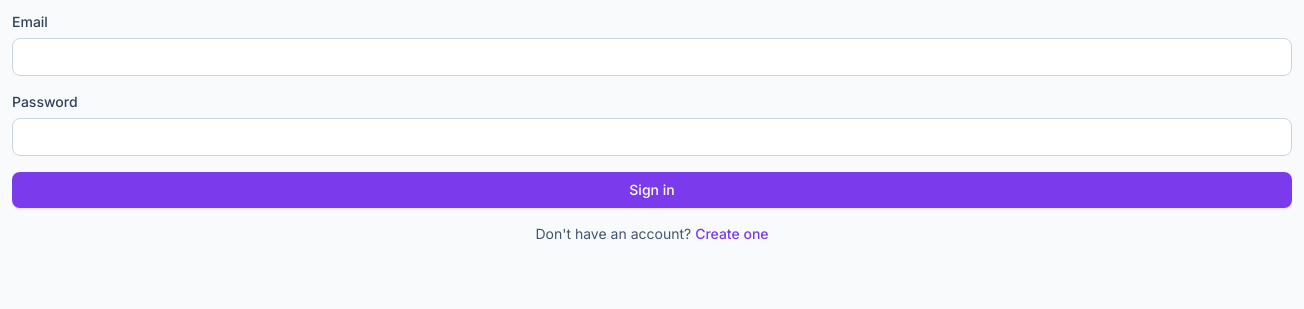
Test: LoginForm › shows validation errors and does not submit when fields are empty
This screenshot has width=1304, height=309.
Click the button "Sign in".
click(652, 190)  # box [12,172,1292,208]
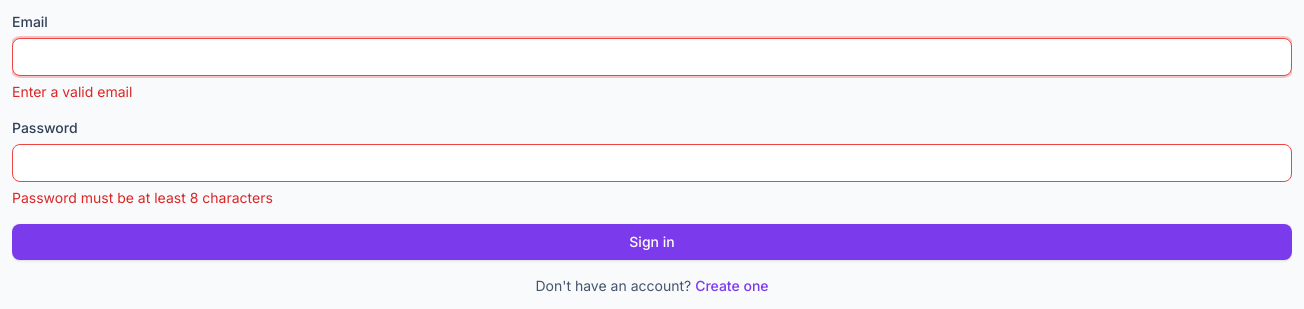
Expected: the text "Enter a valid email" is shown, [12,83,132,100]
Expected: the text "Password must be at least 8 characters" is shown, [12,189,273,206]
